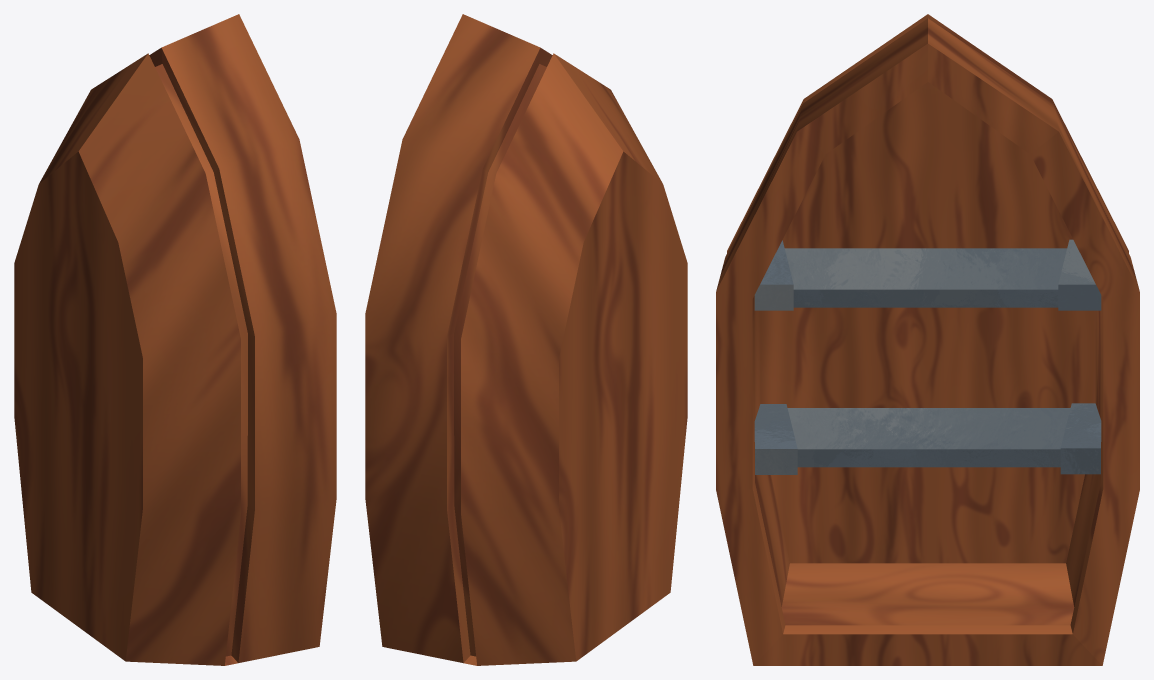
Rendered from SM_Closet.fbx.
The picture shows the model from 3 angles, left to right: view 1: azimuth 30°, elevation 25°; view 2: azimuth 150°, elevation 25°; view 3: azimuth 270°, elevation 25°; orthographic projection. The views are drawn at different scales.
Parts seen in each view (by area): view 1: SM_Closet; view 2: SM_Closet; view 3: SM_Closet.
Part boxes in pixels (bbox=[...]): SM_Closet: bbox=[14, 14, 336, 665]; SM_Closet: bbox=[365, 14, 687, 665]; SM_Closet: bbox=[716, 14, 1139, 665].
Size of the model in its own units: 79.02 by 268 by 165.
